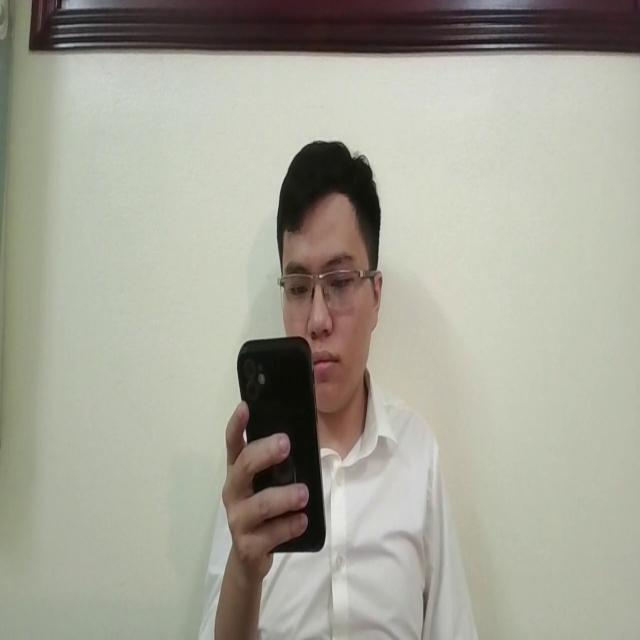phone: (236, 330, 327, 552)
student: (205, 130, 474, 640)
